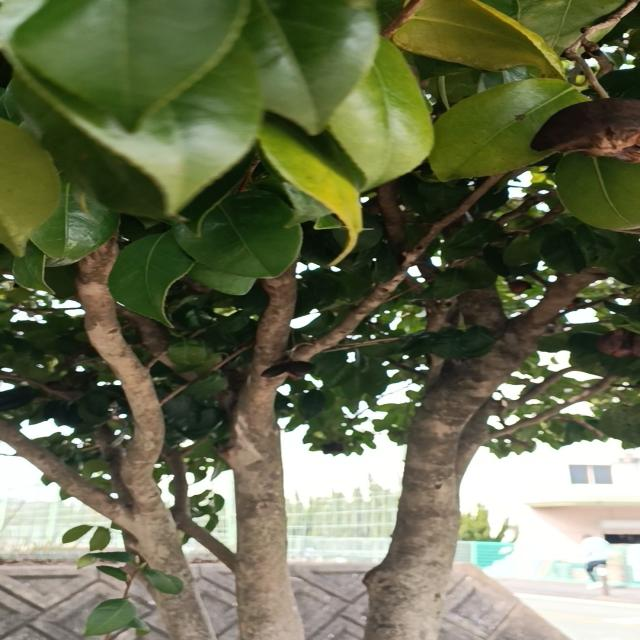Branch: (376, 274, 519, 591), (219, 265, 297, 583), (78, 238, 164, 510)
Twig: (285, 172, 506, 365), (158, 441, 237, 573), (487, 377, 614, 440), (515, 262, 609, 343), (498, 366, 582, 411), (377, 185, 410, 257)
